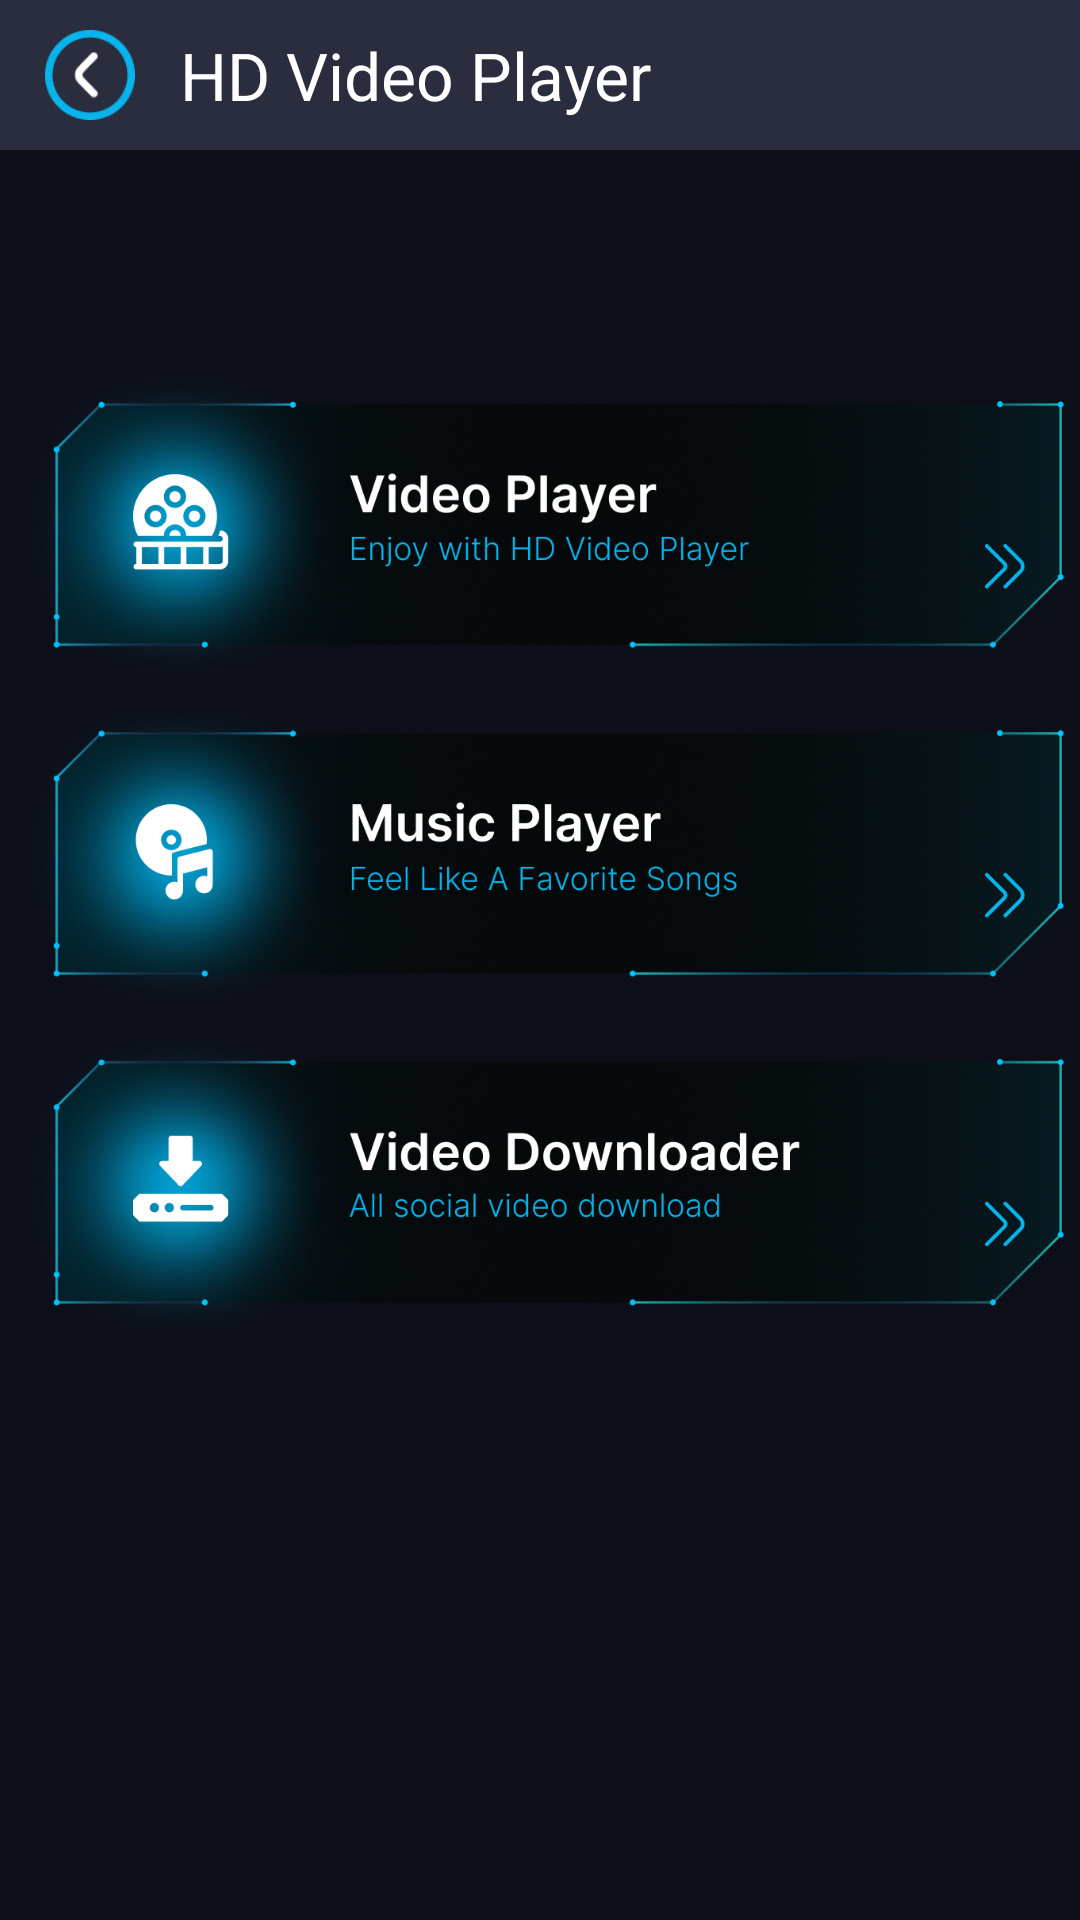

Icon bounding boxes for this 1080px x 1920px phone screenshot, format (x1, y1, x2, y2):
backbutton: (45, 30, 135, 120)
